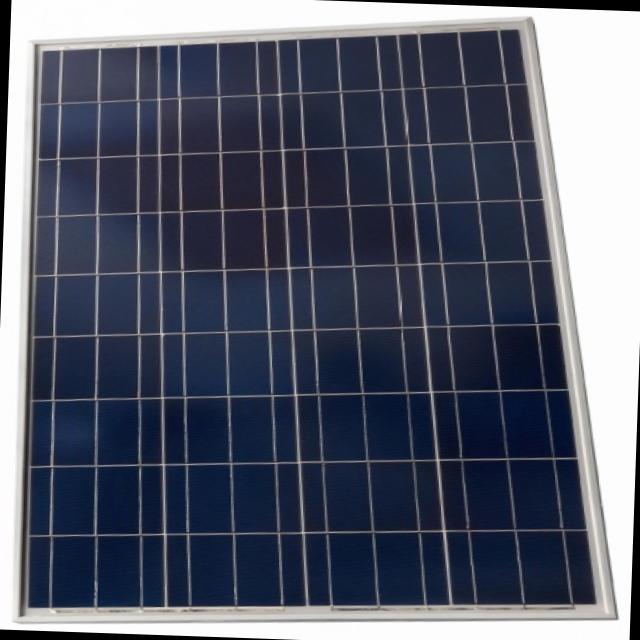no faulty: (28, 40, 608, 622)
